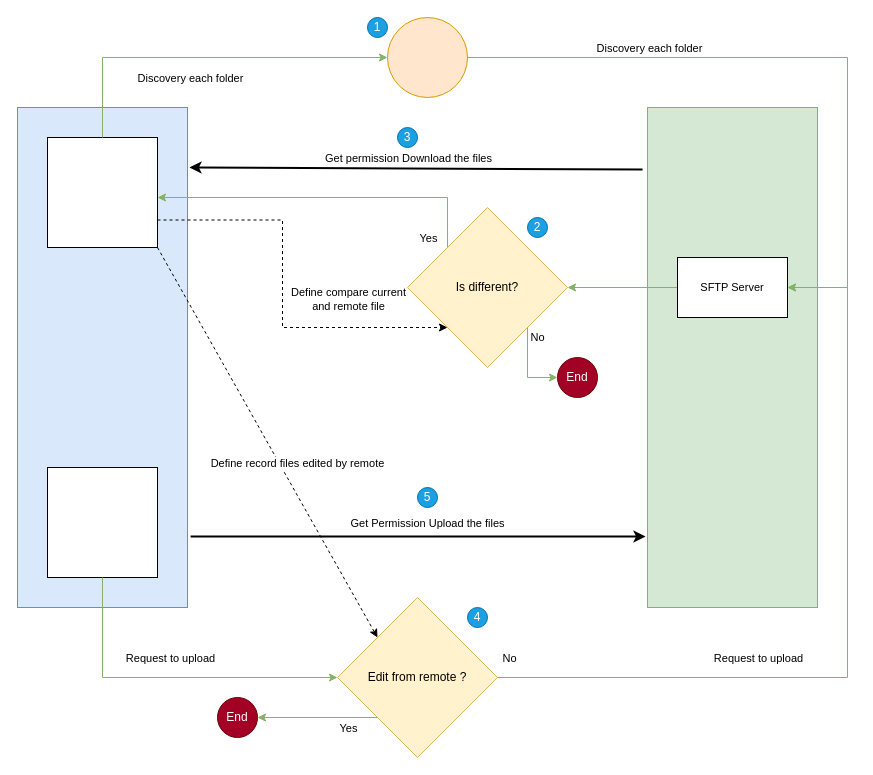
This 873x775 diagram has some shape labels left out. The shapes that lost their labels are listed below. From the top down, each one's centre as x and y in pixels, then its label:
At (x=427, y=57): "Always Retry".
At (x=102, y=192): "WATCH MODE + SFTP CLIENT".
At (x=102, y=522): "UPLOAD + SFTP CLIENT".
